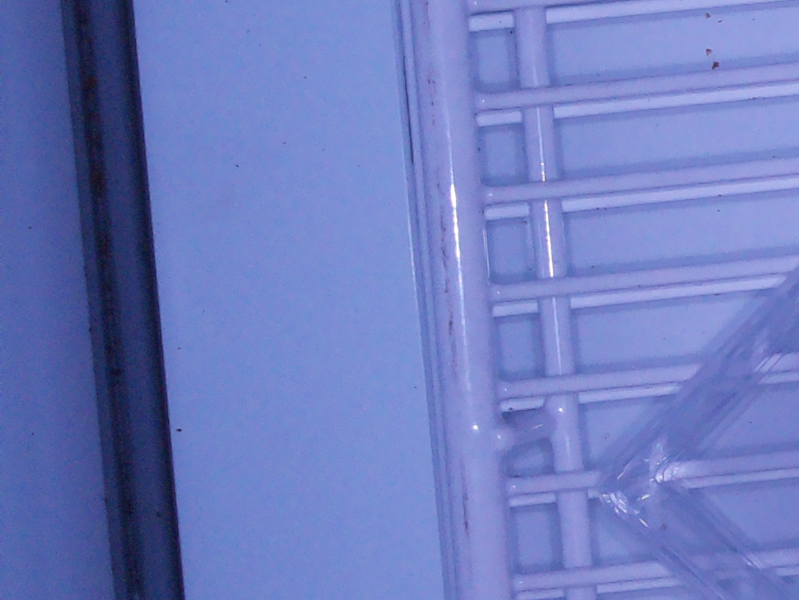plate: (597, 267, 799, 600)
